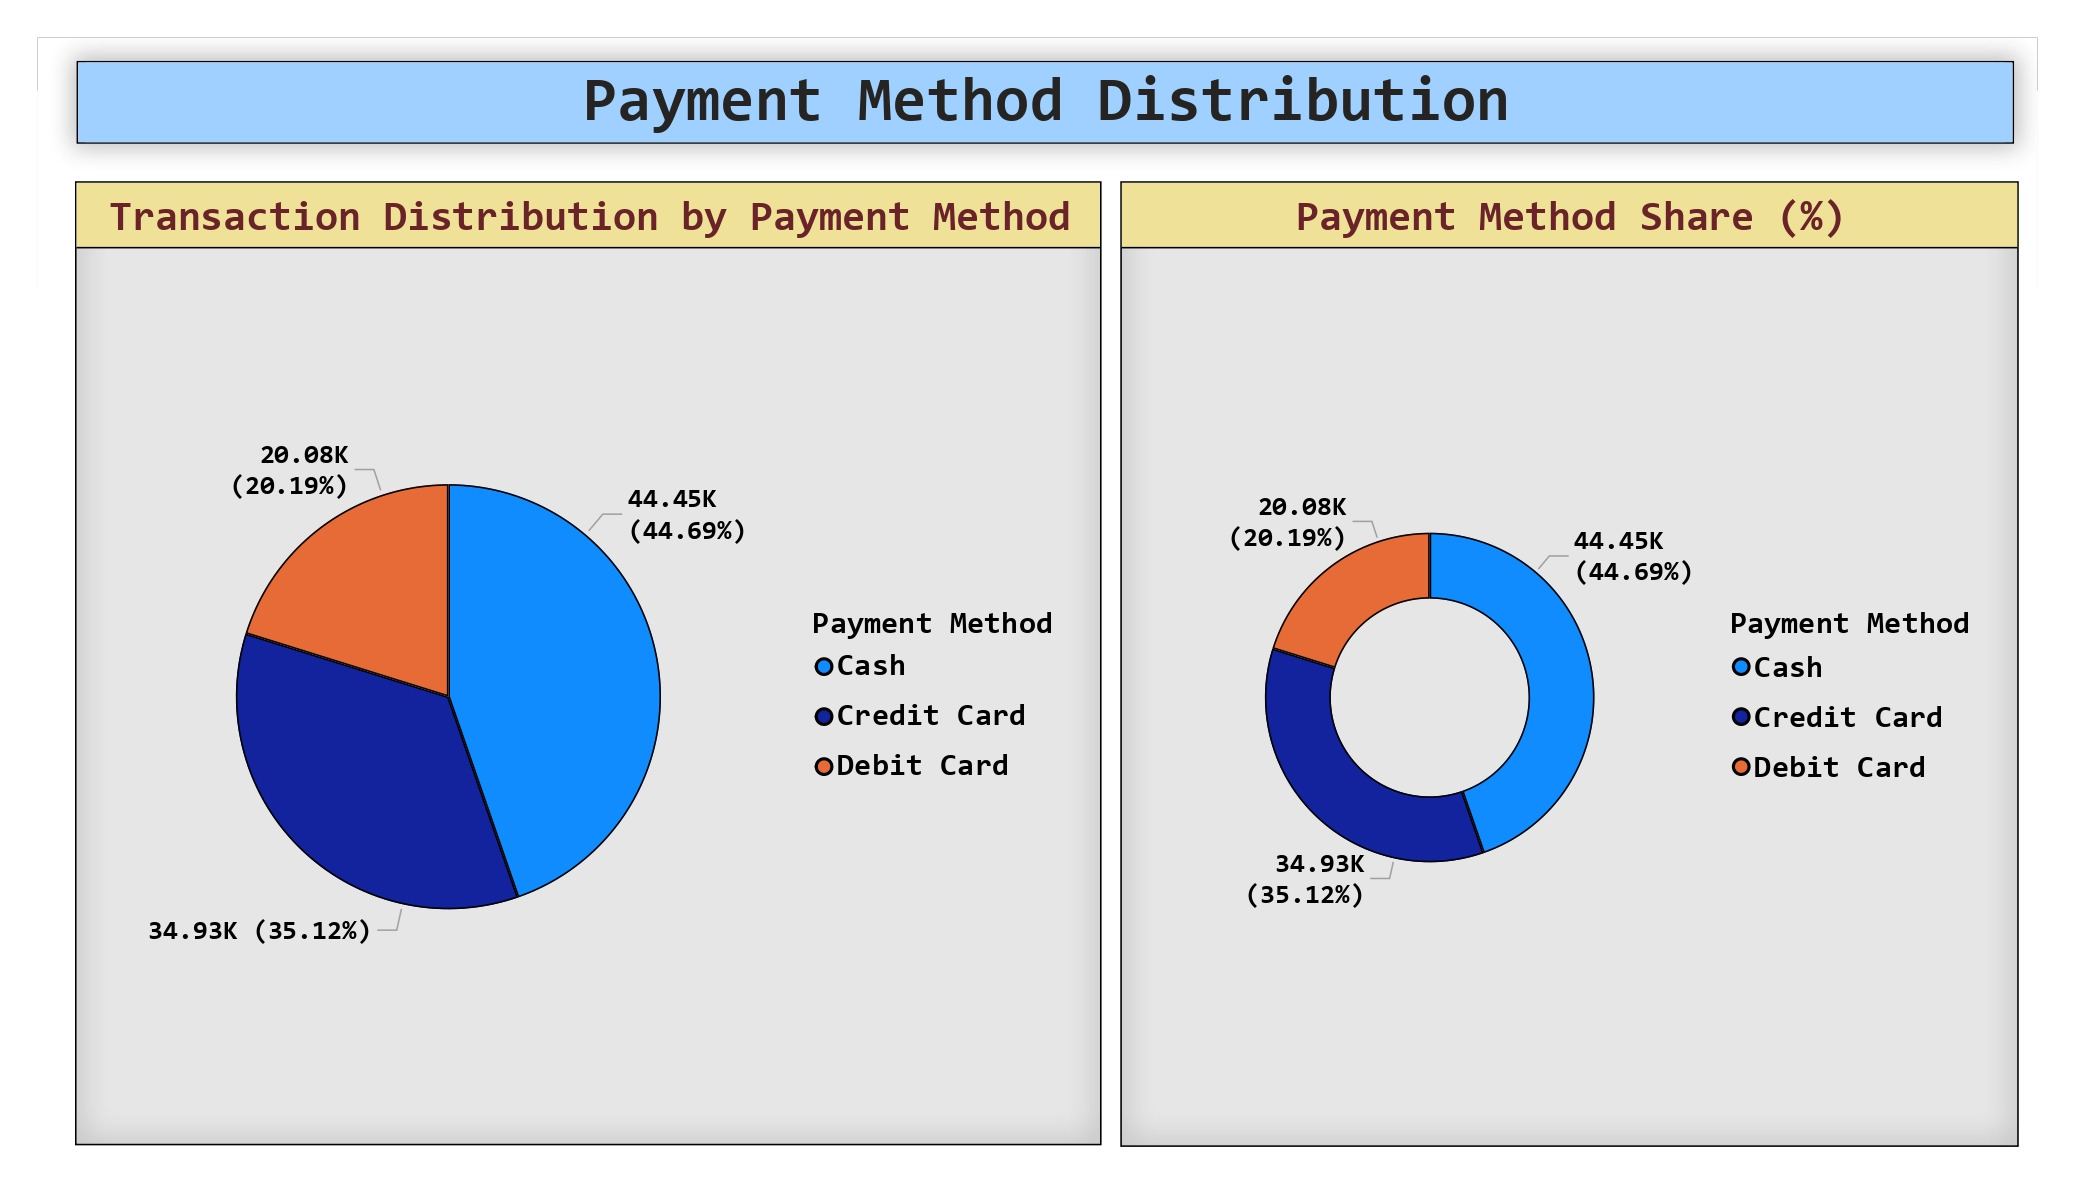

This screenshot's page, from the dashboard's own definition file:
{"tool":"powerbi","page":{"name":"10","canvas":[1280,720],"ordinal":10},"visuals":[{"type":"pieChart","title":"Transaction Distribution by Payment Method","fields":{"Y":["CountNonNull(customer.invoice_no)"],"Category":["customer.payment_method"]},"box":[24.5,91.7,656.7,617.5],"z":0},{"type":"donutChart","title":"Payment Method Share (%)","fields":{"Category":["customer.payment_method"],"Y":["CountNonNull(customer.invoice_no)"]},"box":[693.3,91.7,574.7,618.8],"z":1000},{"type":"textbox","title":"Payment Method Distribution","box":[25,15,1240,53],"z":2000}]}

Visuals, with their boxes on the page's 1280x720 design canvas (x1, y1, x2, y2). These are canvas units, not pixel positions in the 2075x1200 screenshot, which may show the page scaled, cropped or inside an application window:
"Transaction Distribution by Payment Method" pieChart: detection(24, 92, 681, 709)
"Payment Method Share (%)" donutChart: detection(693, 92, 1268, 710)
"Payment Method Distribution" textbox: detection(25, 15, 1265, 68)
